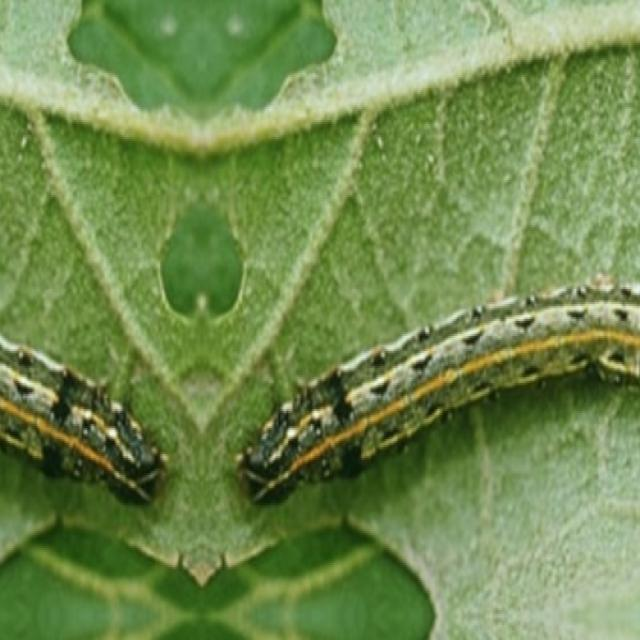armyworm: (234, 270, 639, 505)
